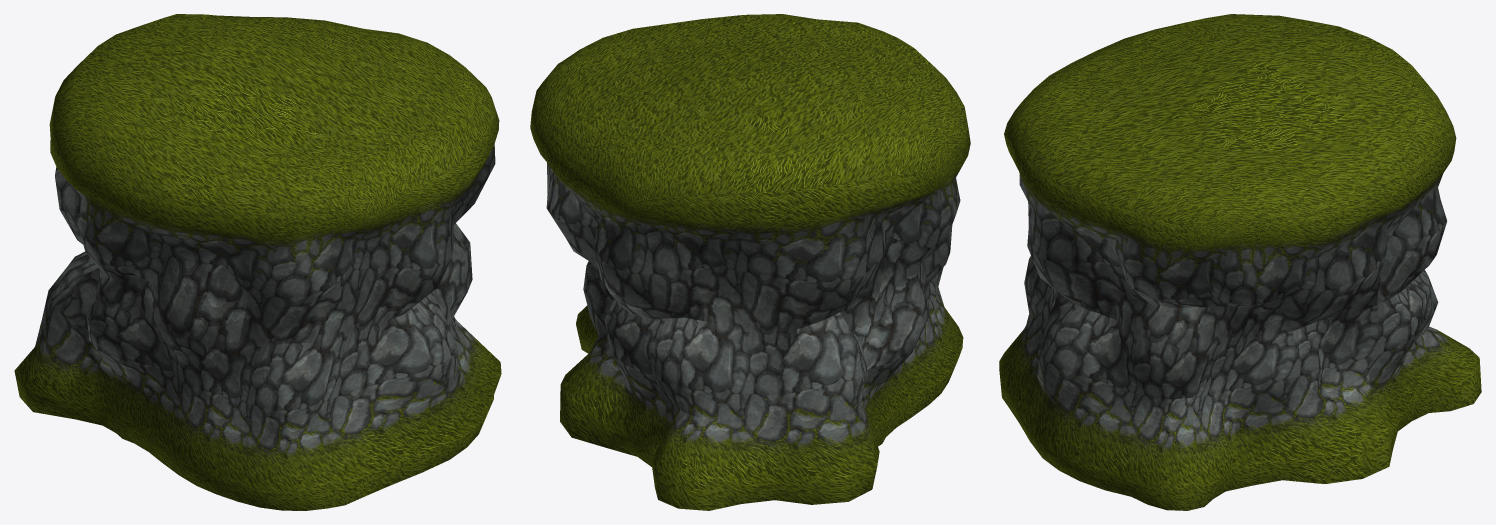
Rendered from PlatformGrass3.obj.
3 renders of one model, left to right at view 1: azimuth 30°, elevation 25°; view 2: azimuth 150°, elevation 25°; view 3: azimuth 270°, elevation 25°, orthographic.
Parts seen in each view (by area): view 1: Mesh; view 2: Mesh; view 3: Mesh.
Part boxes in pixels (x1,y1,x2,y2): Mesh: (14,14,501,510); Mesh: (530,14,970,510); Mesh: (999,14,1481,510).
Bounding box in the file's own units: 14.91 × 12.49 × 15.82.
